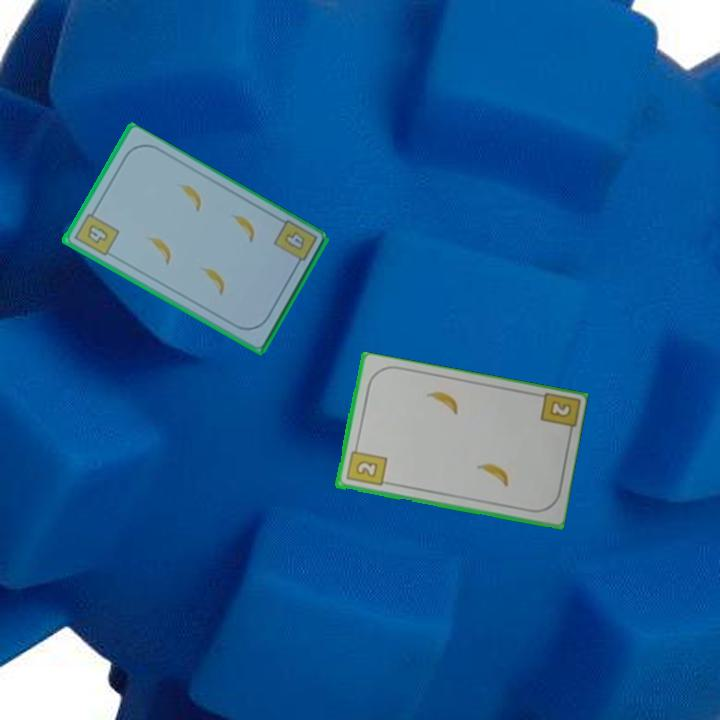2b: (342, 442, 389, 489), (546, 397, 574, 421)
4b: (70, 205, 121, 259), (270, 216, 320, 271)
